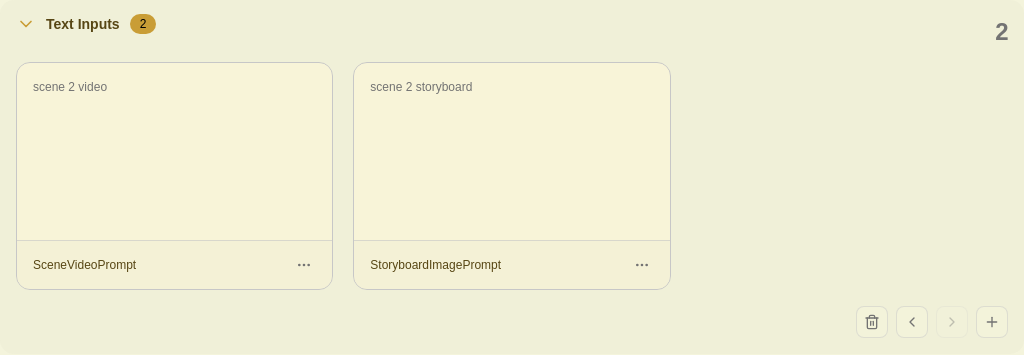
Test: InputsPanel loop-grouped indexed controls › pages grouped text inputs with previous/next controls and 1-based index display
Expected: the text "scene 2 video" is shown, [33, 80, 107, 94]
Expected: the text "scene 2 storyboard" is shown, [370, 80, 472, 94]
Click the button named "Previous loop index".
click(912, 322)  # box [896, 306, 928, 338]
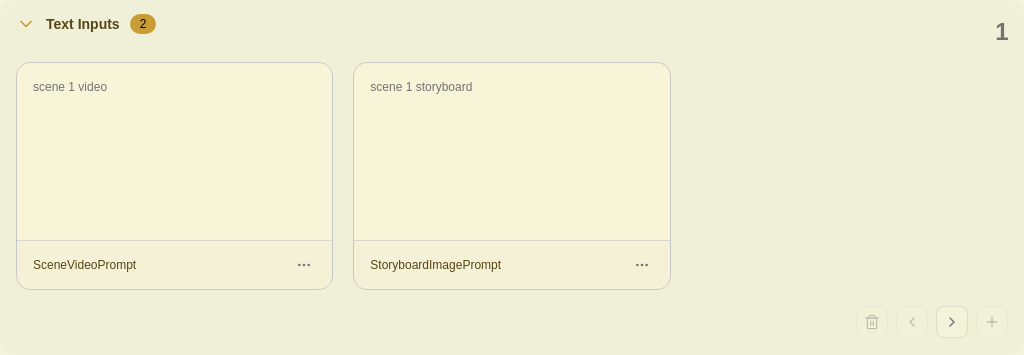
Result: the text "scene 1 video" is shown at [33, 80, 107, 94]
Result: the text "scene 1 storyboard" is shown at [370, 80, 472, 94]
